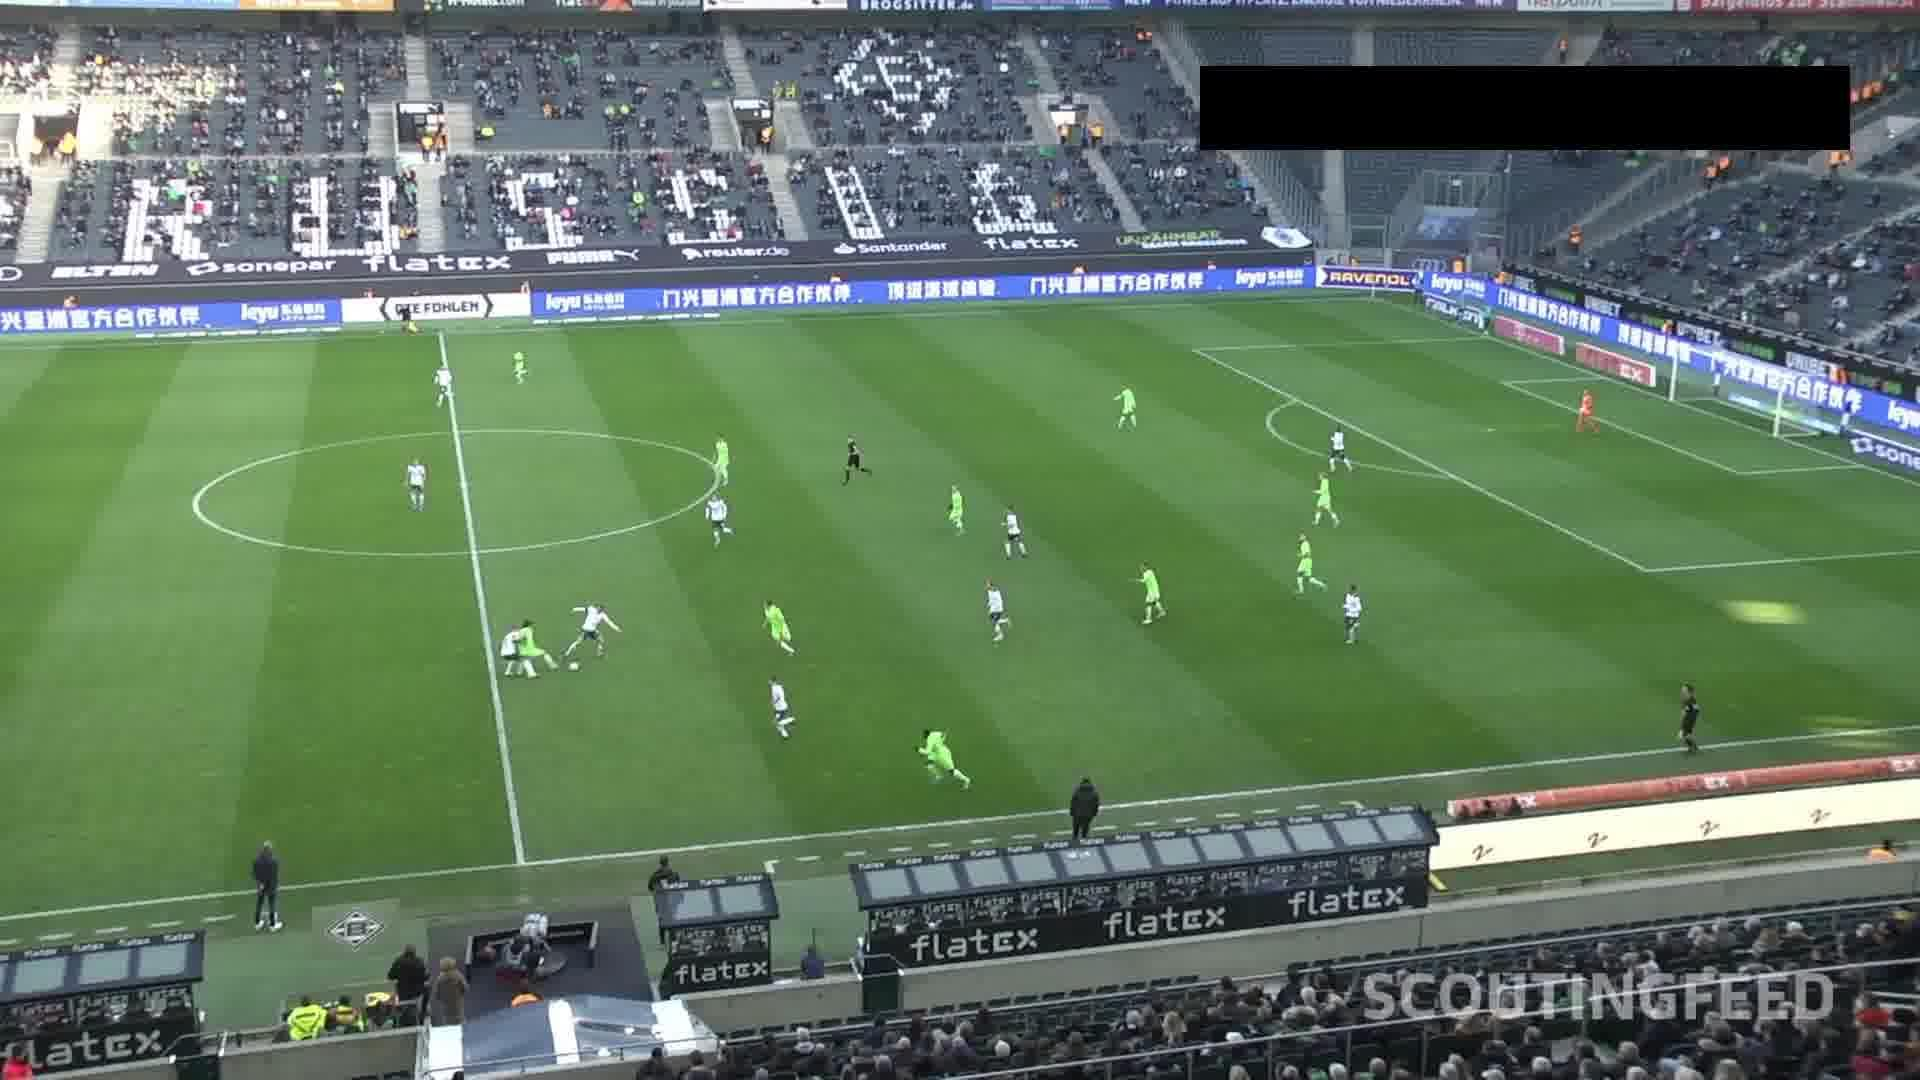football: (567, 661, 580, 673)
